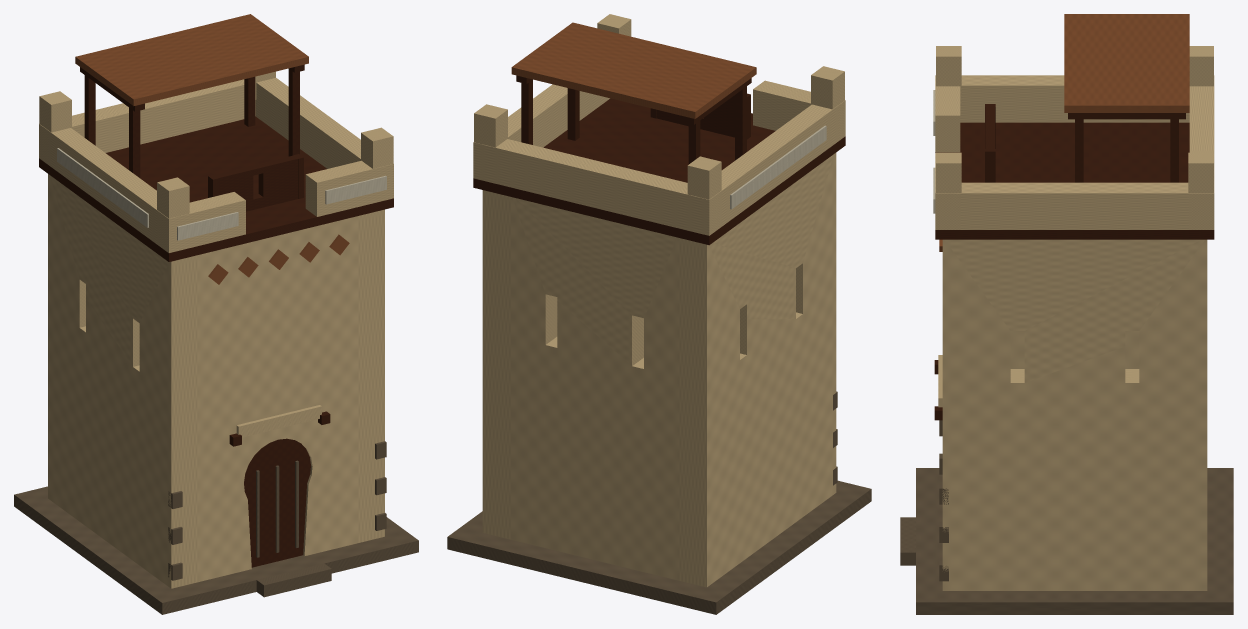
Rendered from Berber_Outpost_Age3_arrowslits.fbx.
The picture shows the model from 3 angles, left to right: view 1: azimuth 30°, elevation 25°; view 2: azimuth 150°, elevation 25°; view 3: azimuth 270°, elevation 25°; orthographic projection. The views are drawn at different scales.
Visible parts, largest first — view 1: west_thick_wall, south_thick_wall, lookout_floor, fitted_flat_canopy, tower_foundation, east_thick_wall, lookout_parapet_back, horseshoe_door, lookout_parapet_side.001, lookout_parapet_side, arrow_shield_panel, lookout_parapet_front.001 (+13 smaller); view 2: north_thick_wall, west_thick_wall, fitted_flat_canopy, tower_foundation, lookout_floor, lookout_parapet_back, east_thick_wall, lookout_parapet_side, lookout_parapet_side.001, lookout_parapet_front, neutral_owner_side_band, corner_merlon.001 (+6 smaller); view 3: east_thick_wall, lookout_floor, tower_foundation, fitted_flat_canopy, lookout_parapet_side.001, lookout_parapet_side, lookout_parapet_back, lookout_parapet_front, west_thick_wall, corner_merlon, corner_merlon.002, corner_merlon.003 (+6 smaller).
Boxes of the visible parts, left/top/right/bottom form: west_thick_wall: left=48, top=174, right=198, bottom=588; south_thick_wall: left=198, top=216, right=357, bottom=581; lookout_floor: left=39, top=116, right=393, bottom=261; fitted_flat_canopy: left=75, top=14, right=308, bottom=105; tower_foundation: left=14, top=486, right=418, bottom=614; east_thick_wall: left=358, top=209, right=384, bottom=542; lookout_parapet_back: left=39, top=79, right=255, bottom=165; horseshoe_door: left=244, top=438, right=310, bottom=567; lookout_parapet_side.001: left=255, top=78, right=360, bottom=168; lookout_parapet_side: left=50, top=128, right=162, bottom=244; arrow_shield_panel: left=214, top=155, right=298, bottom=211; lookout_parapet_front.001: left=305, top=160, right=393, bottom=216; north_thick_wall: left=511, top=197, right=678, bottom=580; west_thick_wall: left=678, top=153, right=836, bottom=587; fitted_flat_canopy: left=511, top=22, right=756, bottom=118; tower_foundation: left=447, top=480, right=871, bottom=614; lookout_floor: left=473, top=98, right=845, bottom=245; lookout_parapet_back: left=473, top=139, right=721, bottom=235; east_thick_wall: left=482, top=190, right=511, bottom=539; lookout_parapet_side: left=715, top=104, right=839, bottom=226; lookout_parapet_side.001: left=508, top=84, right=609, bottom=147; lookout_parapet_front: left=753, top=80, right=845, bottom=139; neutral_owner_side_band: left=730, top=125, right=826, bottom=209; corner_merlon.001: left=687, top=156, right=721, bottom=199; east_thick_wall: left=942, top=239, right=1207, bottom=590; lookout_floor: left=935, top=122, right=1214, bottom=239; tower_foundation: left=916, top=468, right=1233, bottom=614; fitted_flat_canopy: left=1064, top=14, right=1189, bottom=112; lookout_parapet_side.001: left=948, top=182, right=1201, bottom=229; lookout_parapet_side: left=960, top=75, right=1189, bottom=122; lookout_parapet_back: left=1189, top=75, right=1214, bottom=229; lookout_parapet_front: left=935, top=75, right=960, bottom=152; west_thick_wall: left=1010, top=331, right=1139, bottom=368; corner_merlon: left=936, top=46, right=961, bottom=104; corner_merlon.002: left=936, top=152, right=961, bottom=192; corner_merlon.003: left=1188, top=152, right=1213, bottom=192.
Bounding box in the file's own units: 360 × 610 × 378.
Materials: 5 (5 with a texture image).
